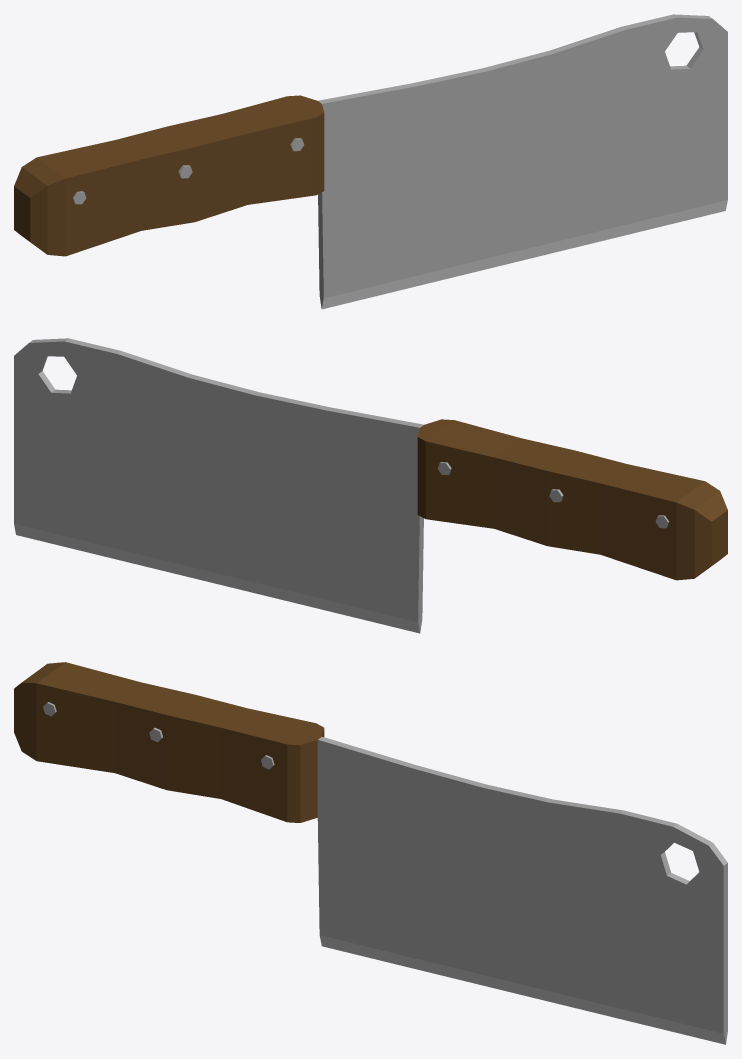
The model's file is knife_c.fbx.
The picture shows the model from 3 angles, top to bottom: view 1: azimuth 30°, elevation 25°; view 2: azimuth 150°, elevation 25°; view 3: azimuth 330°, elevation 25°; orthographic projection.
Parts seen in each view (by area): view 1: Cylinder.002; view 2: Cylinder.002; view 3: Cylinder.002.
Part boxes in pixels (<box>): Cylinder.002: <box>14,14,727,309</box>; Cylinder.002: <box>14,338,727,633</box>; Cylinder.002: <box>14,662,727,1044</box>.
Bounding box in the file's own units: 263 × 74.17 × 20.03.
